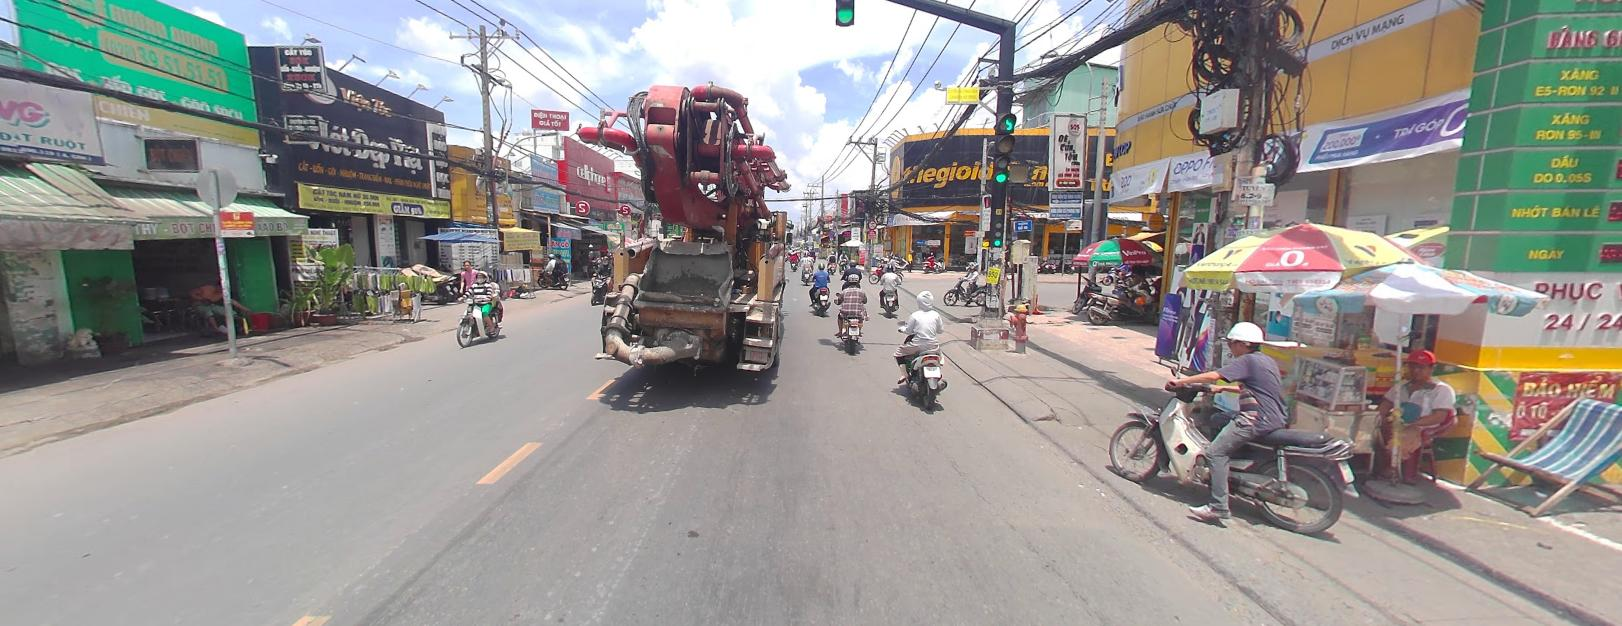Cam con lai: (868, 218, 877, 227), (868, 219, 877, 228)
Cam dung va do: (828, 228, 835, 235), (828, 229, 834, 235)
